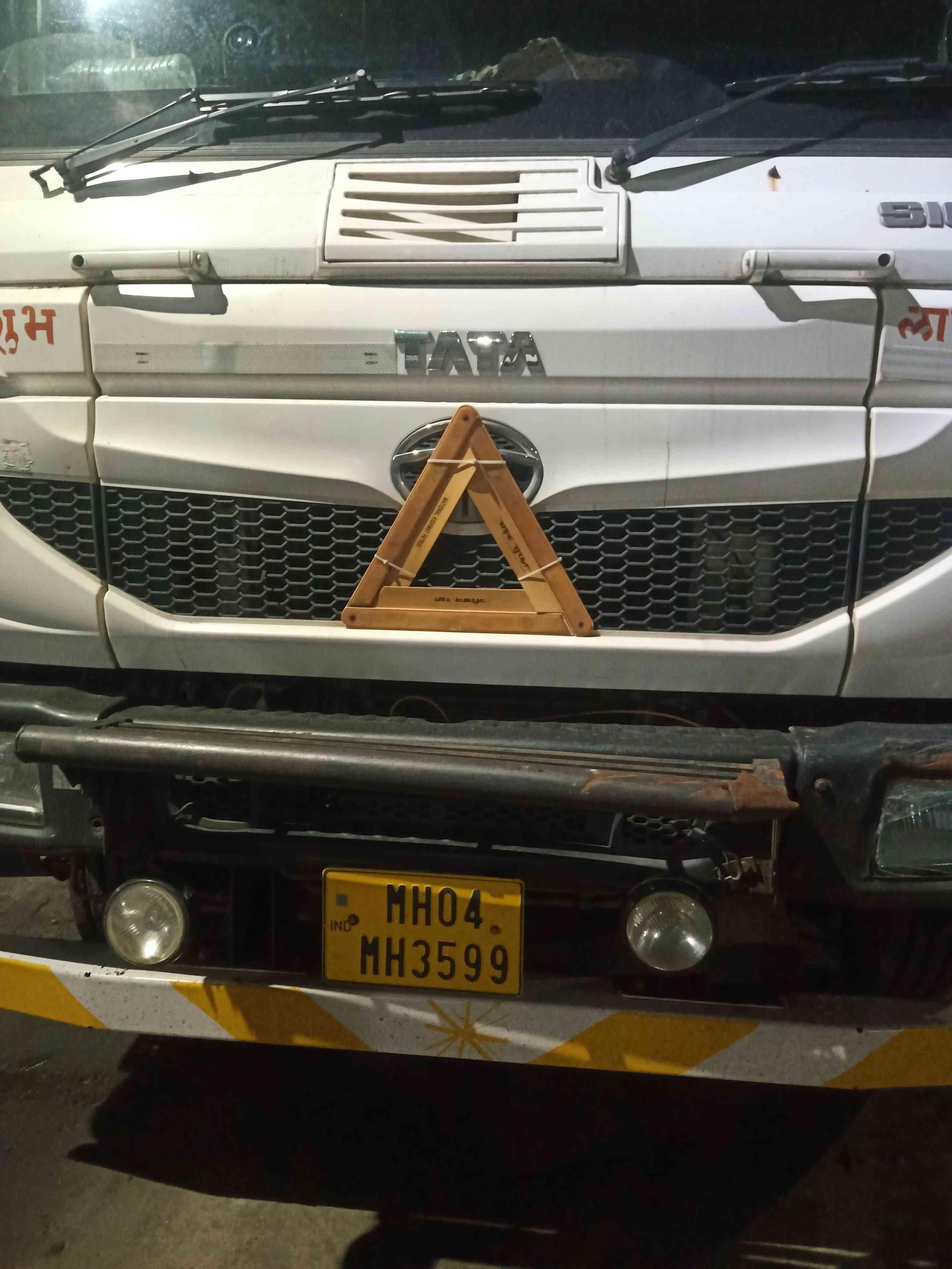License plate: (324, 870, 524, 996)
